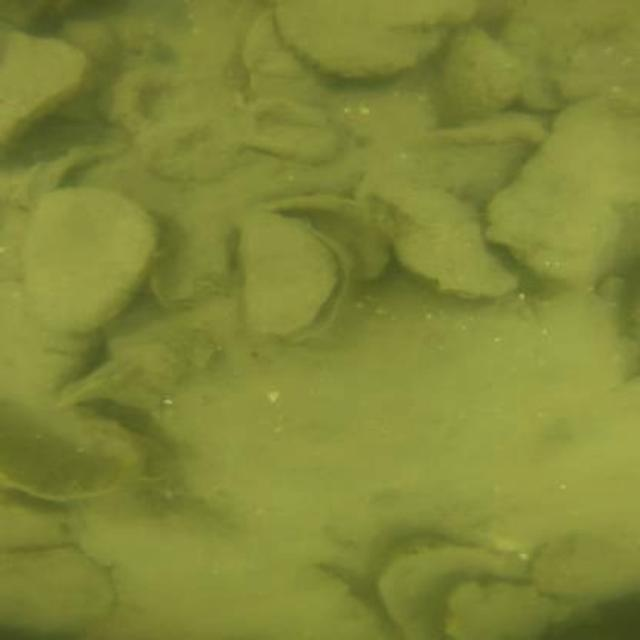Oyster-Closed: (487, 91, 631, 278), (24, 186, 157, 333), (356, 176, 516, 297), (0, 395, 153, 504), (272, 1, 476, 77), (381, 543, 505, 640), (0, 546, 114, 633), (1, 34, 84, 152), (99, 62, 226, 133), (501, 1, 639, 65), (240, 12, 327, 108), (230, 95, 344, 163), (532, 535, 639, 604), (440, 28, 520, 118), (138, 118, 241, 176), (450, 579, 548, 638), (304, 577, 378, 636), (0, 506, 68, 550)
Oyster-Open: (245, 216, 350, 345)
